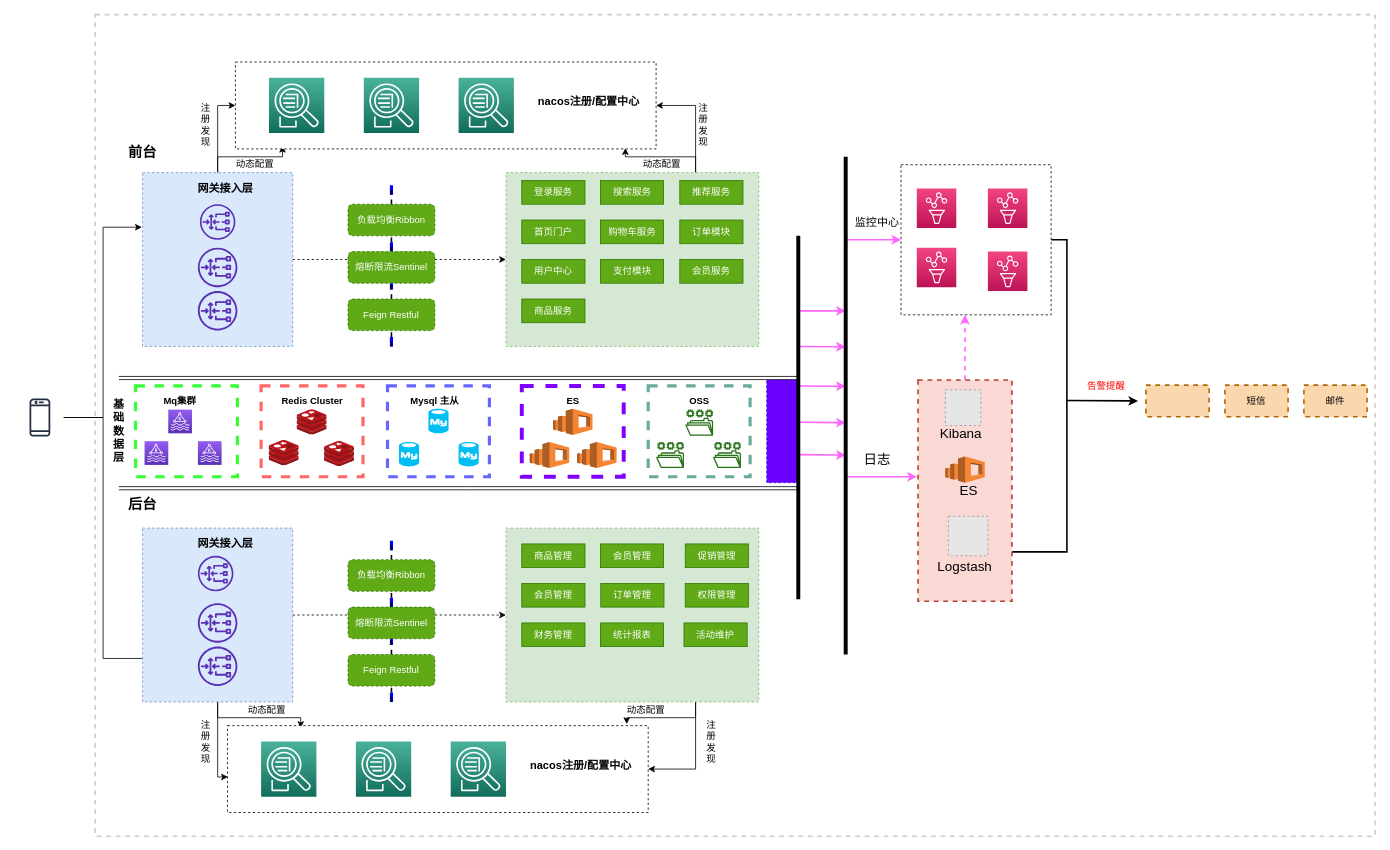
Image size: 1390x850. Some labels were removed from this diagram. Grey dashed boxes stand in for pictures. The shapes that lost their labels are listed below. From the top down, each one's box as (x1, y1, x2, y2) in pixels, then its label:
(15, 393, 64, 441): Mobile client
(1145, 384, 1209, 417): 微信
(766, 379, 798, 483): 分布式事务
